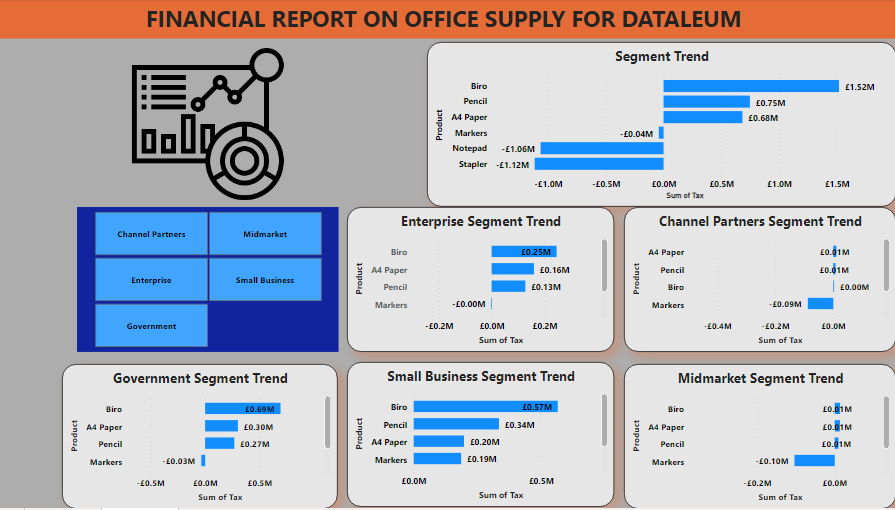

What the dashboard file says about the page in this screenshot:
{"tool":"powerbi","page":{"name":"Page 4","canvas":[1280,720],"ordinal":3},"visuals":[{"type":"clusteredBarChart","title":"Segment Trend","fields":{"Y":["Sum(financials3.Tax)"],"Category":["financials3.Product","financials3.Segment"]},"box":[616.5,60.5,663.5,233.5],"z":0},{"type":"clusteredBarChart","title":"Channel Partners Segment Trend","fields":{"Y":["Sum(financials3.Tax)"],"Category":["financials3.Product","financials3.Segment"]},"box":[895.3,294,384.7,204.9],"z":1000},{"type":"clusteredBarChart","title":"Enterprise Segment Trend","fields":{"Y":["Sum(financials3.Tax)"],"Category":["financials3.Product","financials3.Segment"]},"box":[503.6,294.2,377.7,205.1],"z":2000},{"type":"clusteredBarChart","title":"Government Segment Trend","fields":{"Y":["Sum(financials3.Tax)"],"Category":["financials3.Product","financials3.Segment"]},"box":[100.8,515.7,389.7,204.9],"z":3000},{"type":"clusteredBarChart","title":"Midmarket Segment Trend","fields":{"Y":["Sum(financials3.Tax)"],"Category":["financials3.Product","financials3.Segment"]},"box":[895.3,515.7,384.7,204.9],"z":4000},{"type":"clusteredBarChart","title":"Small Business Segment Trend","fields":{"Y":["Sum(financials3.Tax)"],"Category":["financials3.Product","financials3.Segment"]},"box":[503.9,514,378,204.9],"z":5000},{"type":"slicer","fields":{"Values":["financials3.Segment"]},"box":[120.9,294,369.6,204.9],"z":6000},{"type":"textbox","box":[0,0,1280,56.4],"z":7000},{"type":"image","box":[120.9,60.5,369.6,231.8],"z":8000}]}

Visuals, with their boxes in screenshot pixels (x1, y1, x2, y2), scaled from the page's 1280x720 canvas onto the 895x510 screenshot:
"Segment Trend" clusteredBarChart: (x1=431, y1=43, x2=894, y2=208)
"Channel Partners Segment Trend" clusteredBarChart: (x1=626, y1=208, x2=894, y2=353)
"Enterprise Segment Trend" clusteredBarChart: (x1=352, y1=208, x2=616, y2=354)
"Government Segment Trend" clusteredBarChart: (x1=70, y1=365, x2=343, y2=509)
"Midmarket Segment Trend" clusteredBarChart: (x1=626, y1=365, x2=894, y2=509)
"Small Business Segment Trend" clusteredBarChart: (x1=352, y1=364, x2=617, y2=509)
slicer - financials3.Segment: (x1=85, y1=208, x2=343, y2=353)
textbox: (x1=0, y1=0, x2=894, y2=40)
image: (x1=85, y1=43, x2=343, y2=207)
